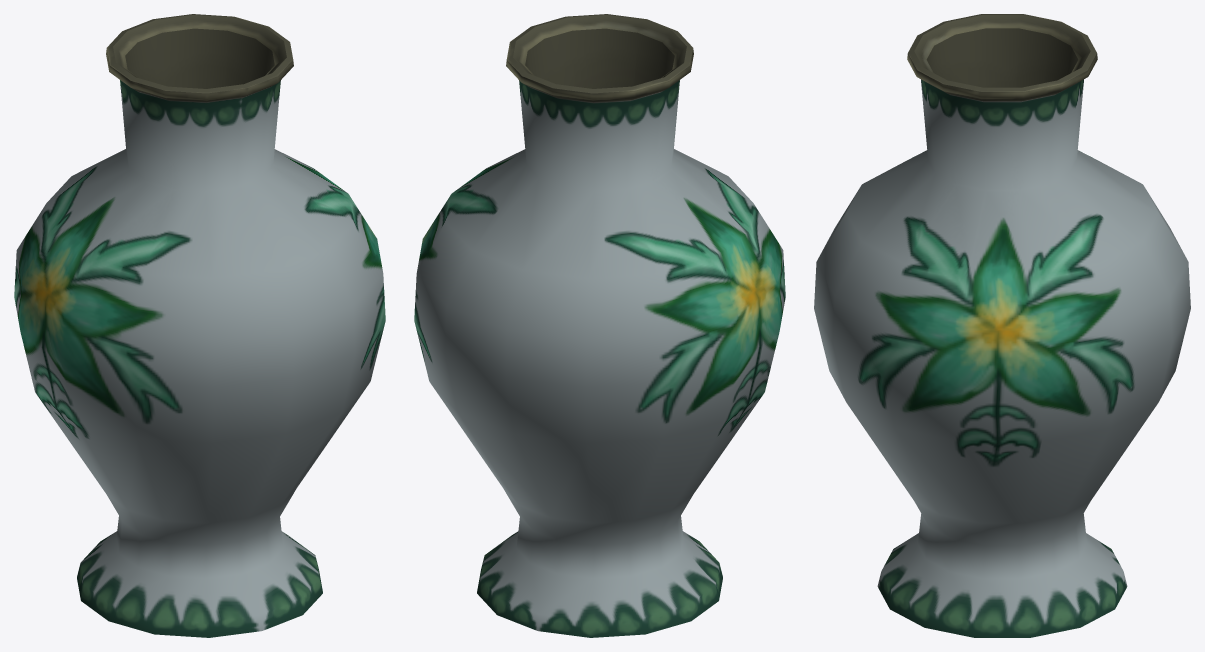
Rendered from Vase_BigFlowerPattern.fbx.
3 renders of one model, left to right at view 1: azimuth 30°, elevation 25°; view 2: azimuth 150°, elevation 25°; view 3: azimuth 270°, elevation 25°, orthographic.
Parts seen in each view (by area): view 1: Vase3; view 2: Vase3; view 3: Vase3.
Boxes of the visible parts, bbox=[...] form: Vase3: bbox=[14, 14, 385, 637]; Vase3: bbox=[414, 14, 785, 637]; Vase3: bbox=[814, 14, 1190, 637].
Bounding box in the file's own units: 3.22 × 5.18 × 3.31.
